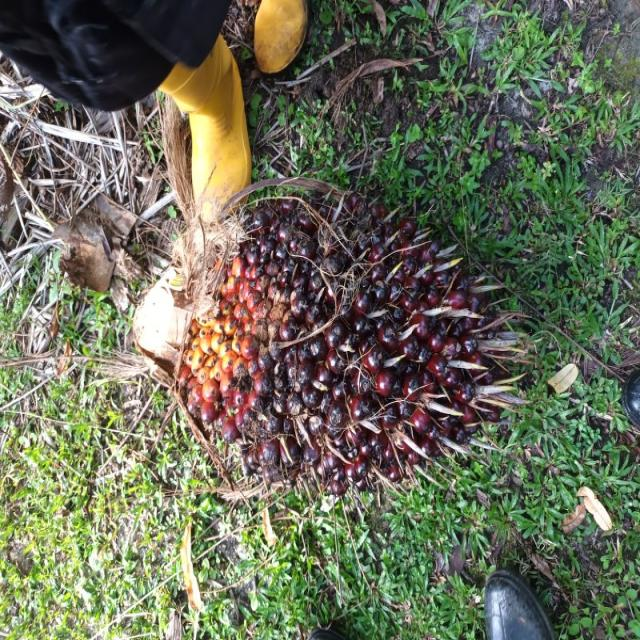fraksi 1: (123, 128, 511, 541)
